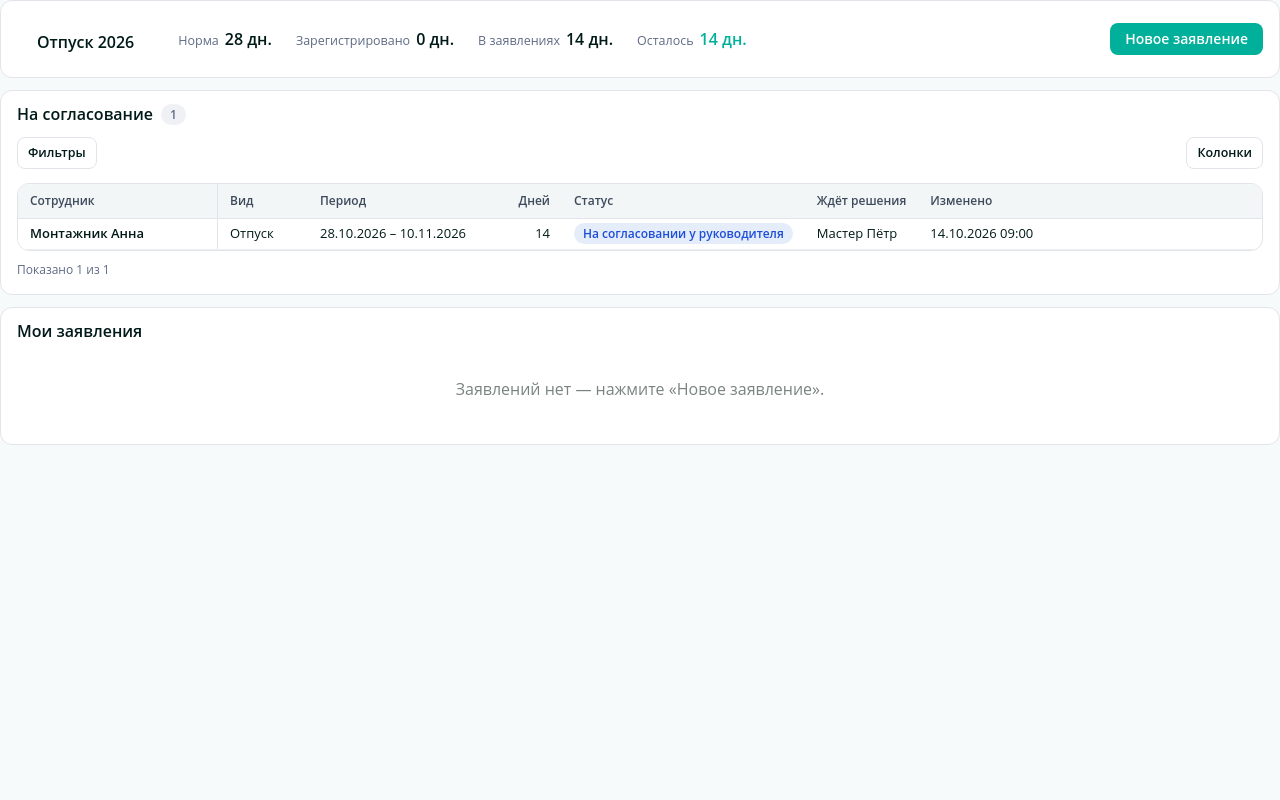
Test: lets the manager approve or reject from the inbox, a rejection only with a reason
This screenshot has width=1280, height=800.
Click the text "Монтажник Анна".
click(118, 234)  # box [18,219,218,249]
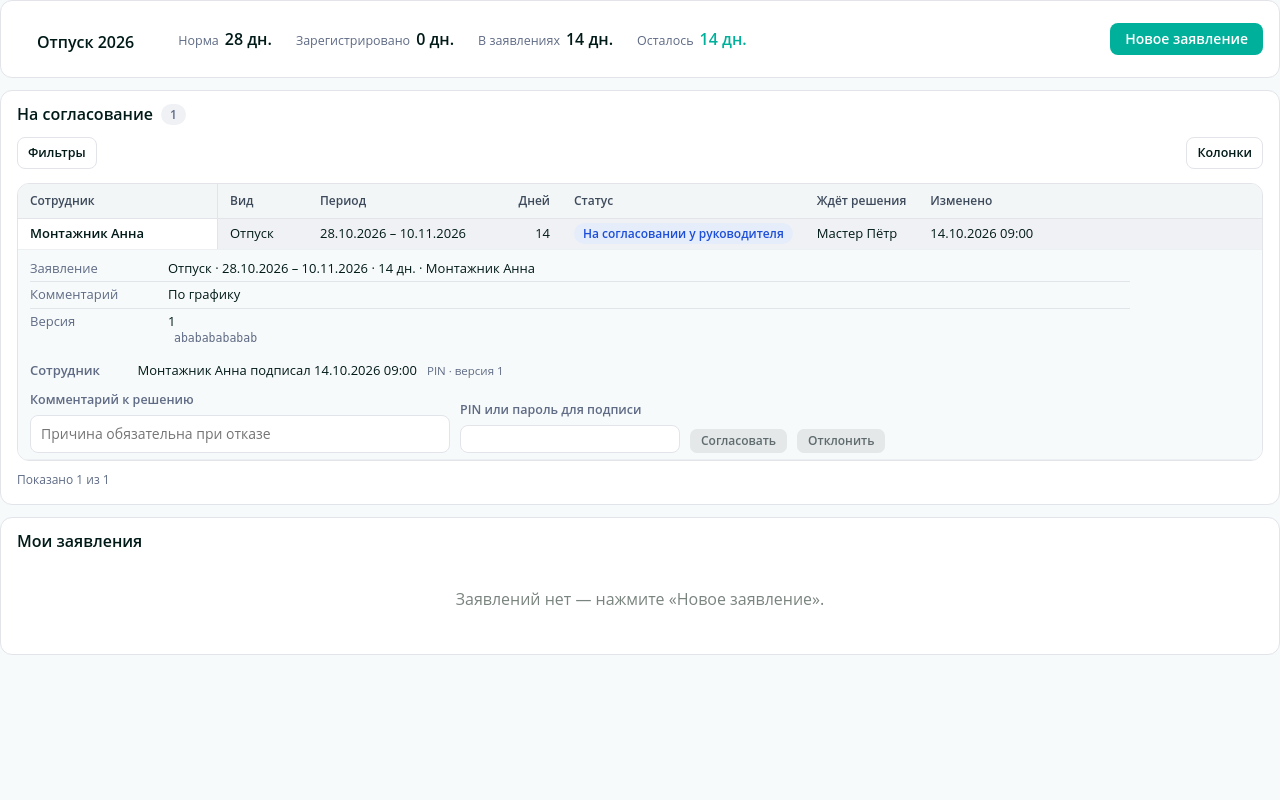
Type "secret-pass" into the password field labelled "PIN или пароль для подписи".
click(570, 439); type("secret-pass")  # box [460,425,680,453]
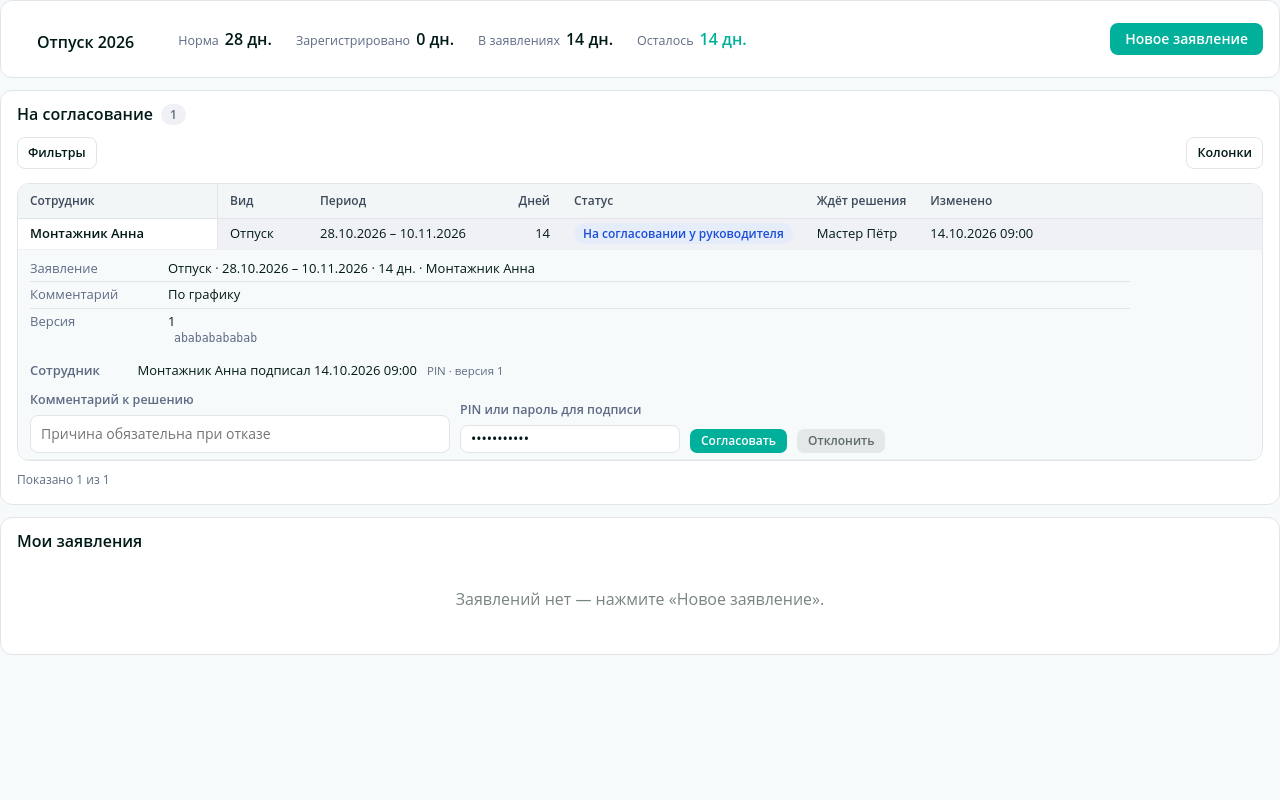
Expected: the button "Отклонить" is disabled, [797,429,885,453]
Expected: the button "Согласовать" is enabled, [690,429,787,453]
Type "Сдача проекта" into the text box labelled "Комментарий к решению".
click(240, 434); type("Сдача проекта")  # box [30,415,450,453]
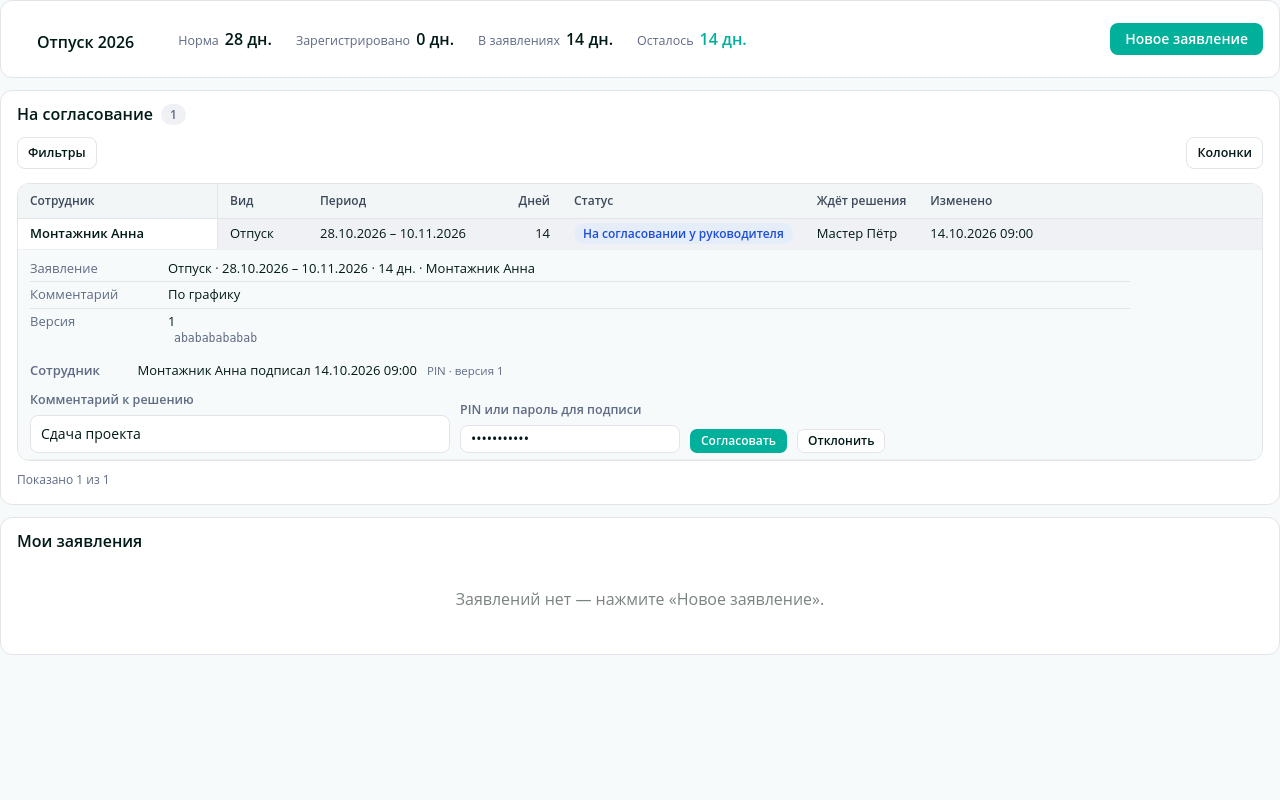
Click the button "Отклонить".
click(841, 441)  # box [797,429,885,453]
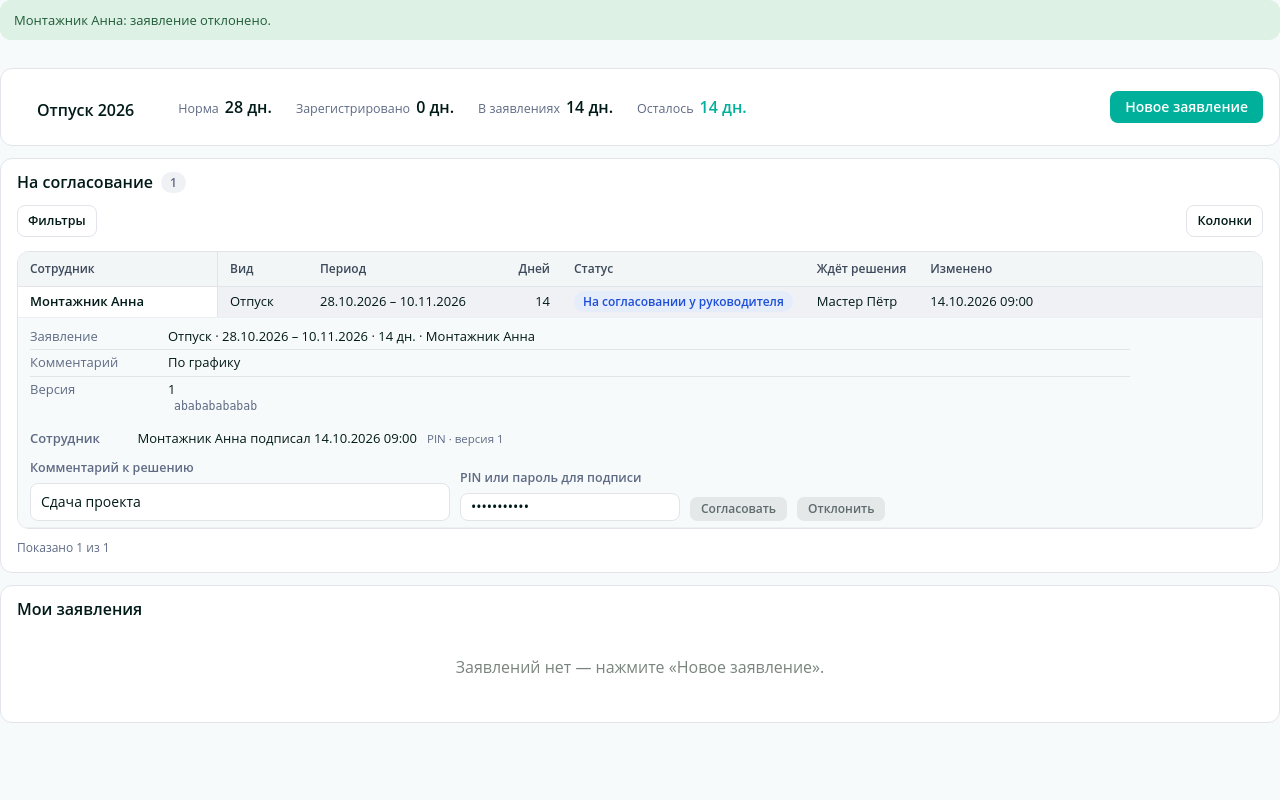
Expected: the text "Монтажник Анна: заявление отклонено." is shown, [0,0,1279,40]
